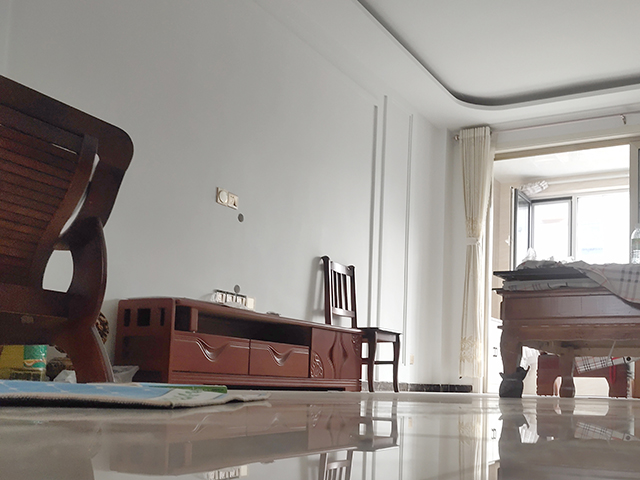book: (143, 382, 229, 395)
cabinet: (113, 294, 364, 393)
carpet: (1, 378, 269, 411)
curtain: (456, 124, 494, 380)
sofa: (1, 75, 136, 385)
stool: (318, 254, 403, 394)
table: (486, 257, 640, 400)
